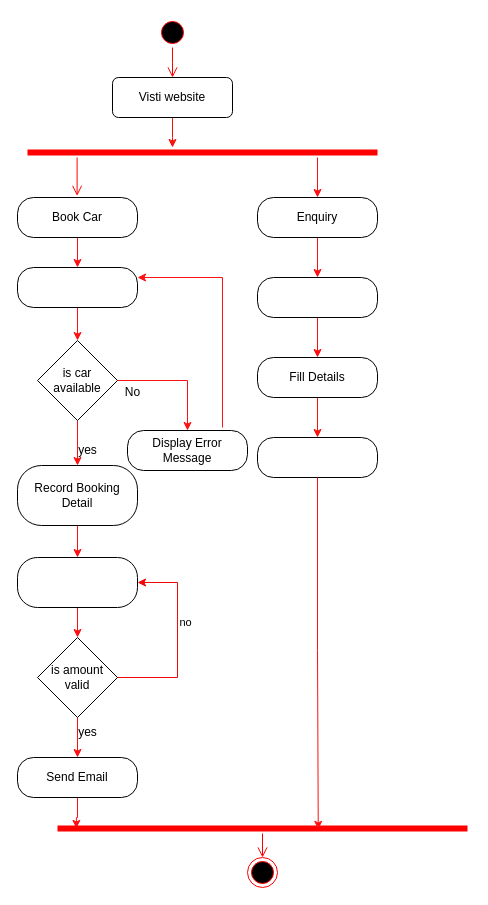
The diagram is 488 pixels wide and 905 high, and some of its shapes have lost their labels. The shapes that lost their labels are listed below. From the top down, each one's centre as x and y in pixels, then its label:
(x=77, y=287): Select Car Specification
(x=317, y=297): Open Email Form
(x=317, y=457): Send Email Notification
(x=77, y=582): Send Booking Amount
